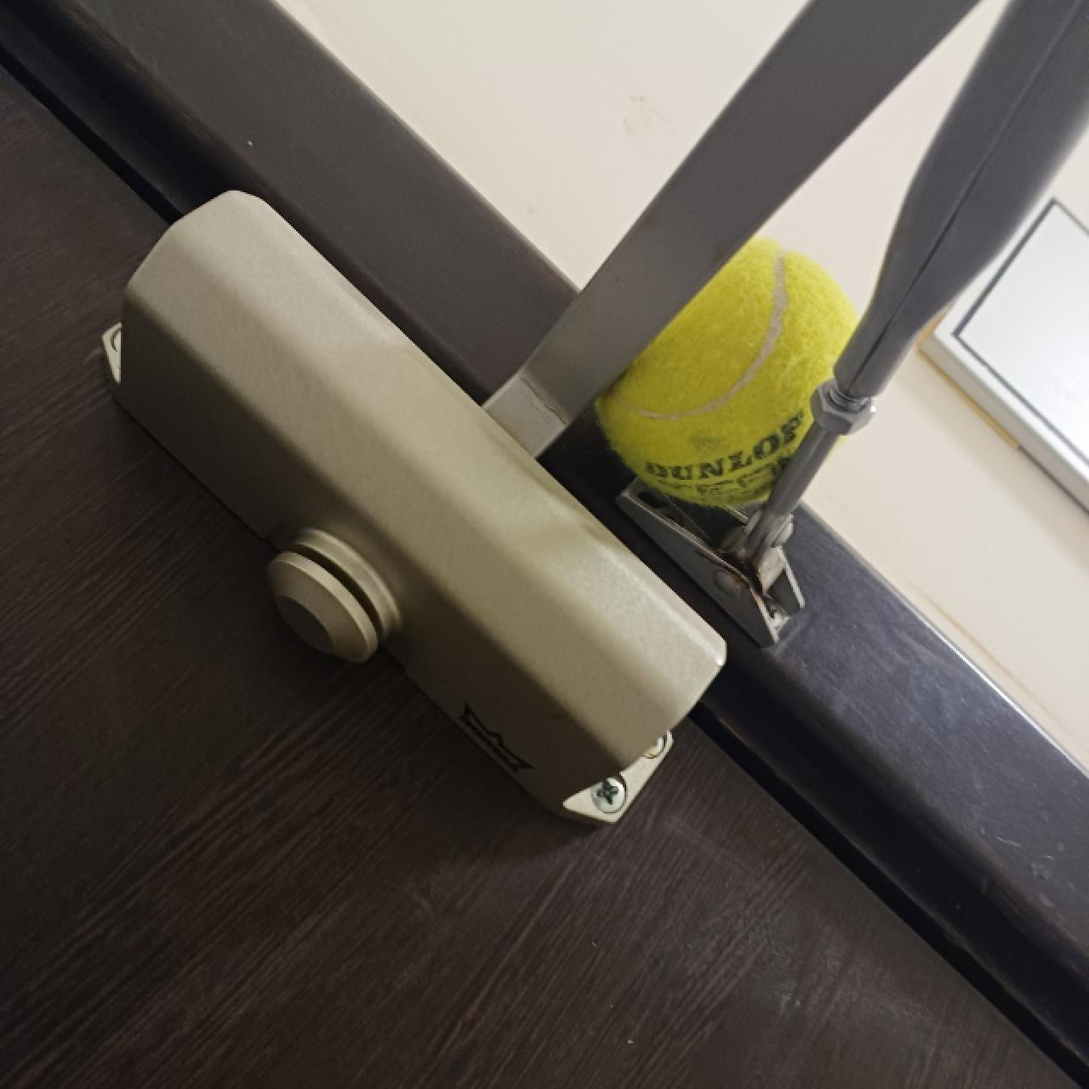tennis-ball: (574, 234, 872, 511)
